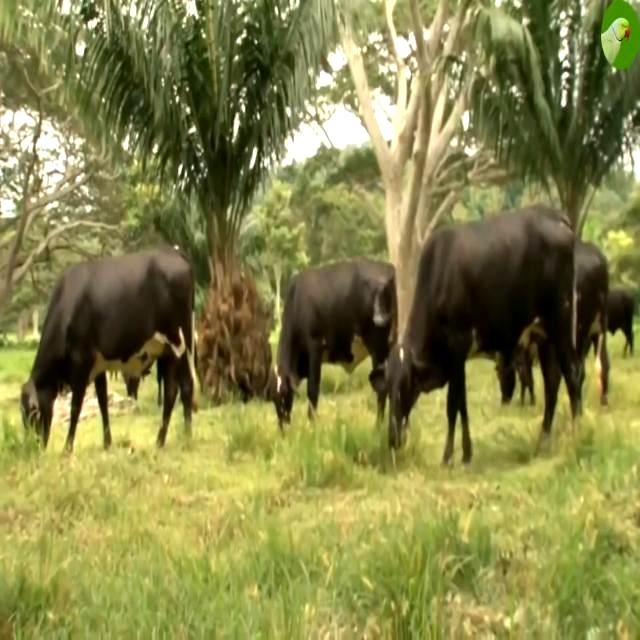COW: (389, 208, 580, 463), (20, 250, 194, 452), (274, 259, 395, 428)
